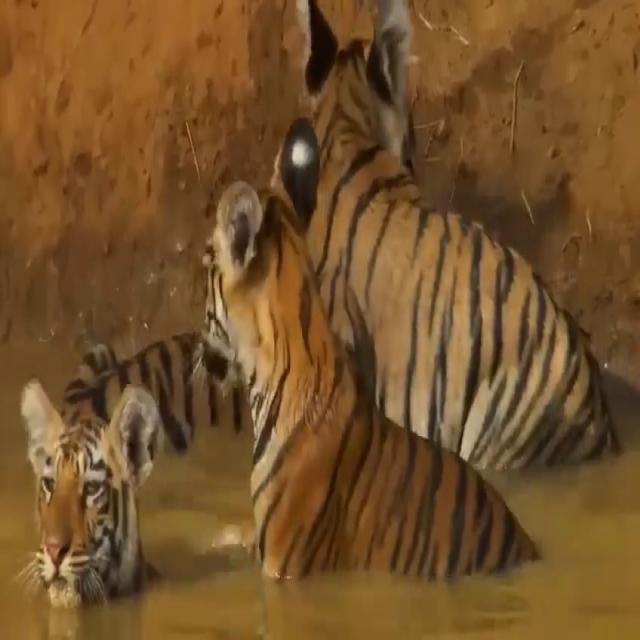tiger: (192, 111, 543, 578), (297, 0, 623, 470), (19, 370, 165, 608)
